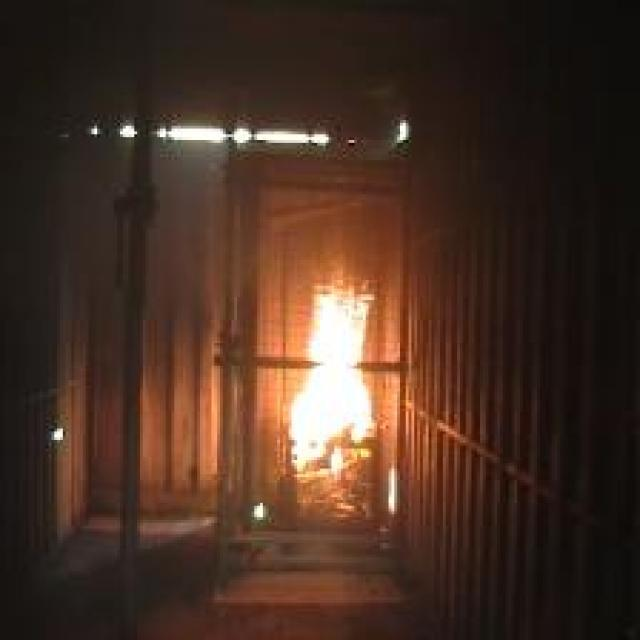Fire: (290, 259, 376, 472)
